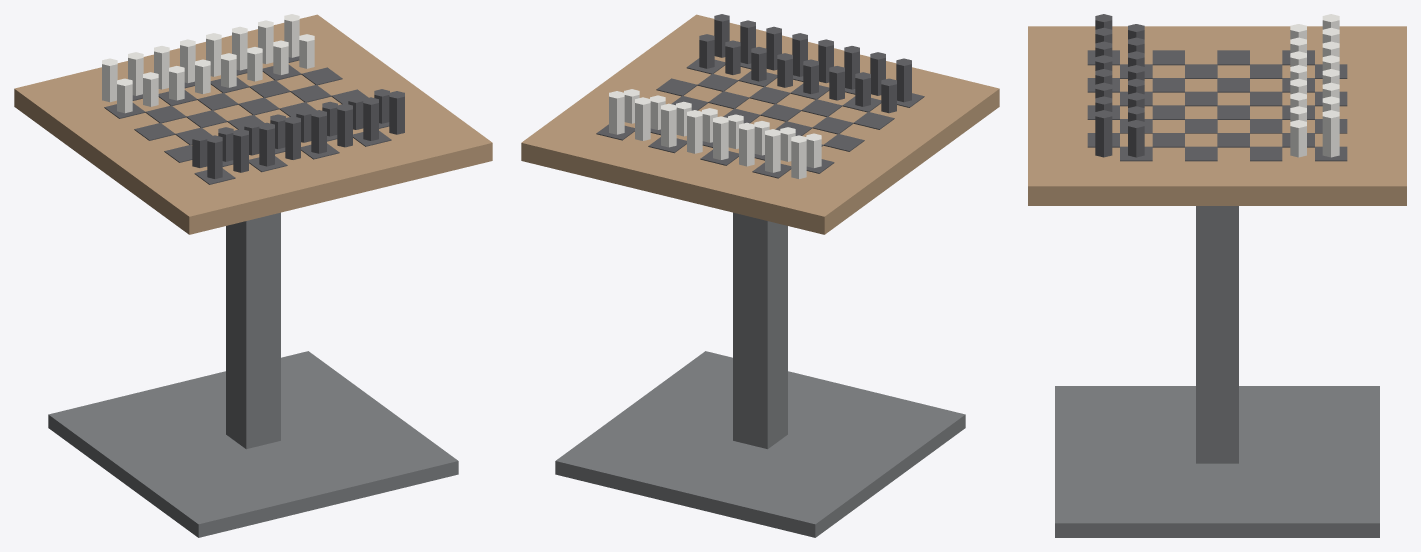
File: Chess_Table.fbx
The picture shows the model from 3 angles, left to right: view 1: azimuth 30°, elevation 25°; view 2: azimuth 150°, elevation 25°; view 3: azimuth 270°, elevation 25°; orthographic projection. The views are drawn at different scales.
Parts seen in each view (by area): view 1: Chess_Table; view 2: Chess_Table; view 3: Chess_Table.
Part boxes in pixels (<box>): Chess_Table: <box>14,14,492,537</box>; Chess_Table: <box>521,14,999,537</box>; Chess_Table: <box>1028,14,1406,537</box>.
Size of the model in its own units: 0.7 by 0.822 by 0.7.
